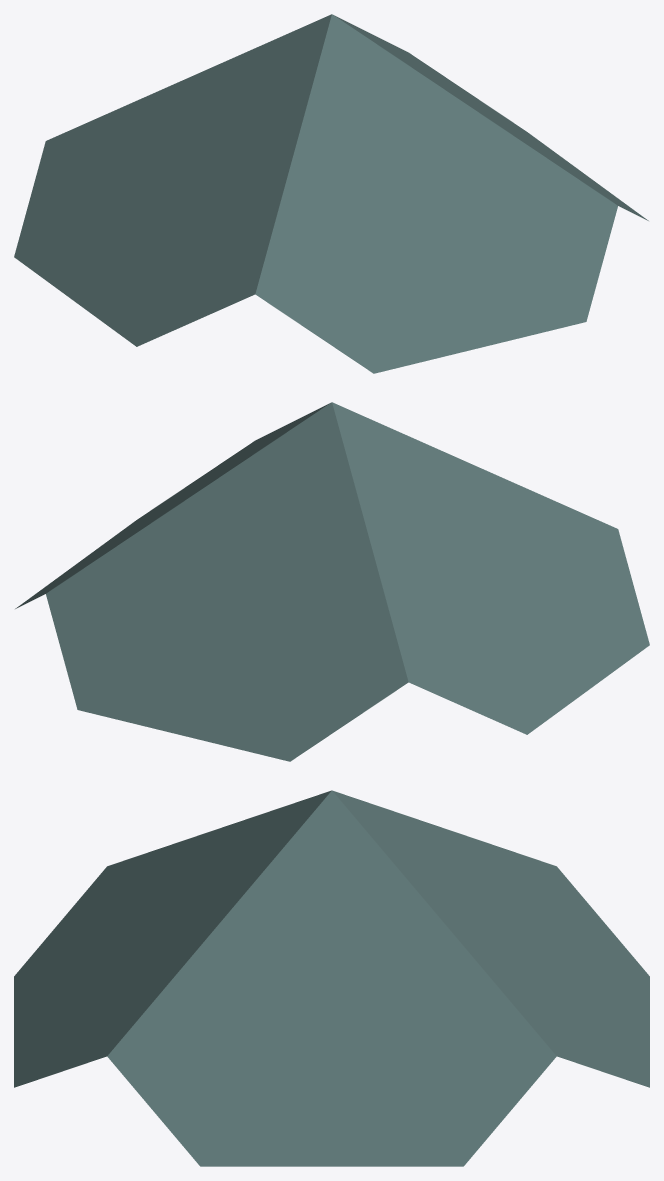
Rendered from 0459-Buildings-shell-pieces-roof-polygon-plan-emitPolygonRoof-12-triangles-9-24-x-3-8.glb.
3 renders of one model, top to bottom at view 1: azimuth 30°, elevation 25°; view 2: azimuth 150°, elevation 25°; view 3: azimuth 270°, elevation 25°, orthographic. The views are drawn at different scales.
Parts seen in each view (by area): view 1: emitPolygonRoof; view 2: emitPolygonRoof; view 3: emitPolygonRoof.
Boxes of the visible parts, left/top/right/bottom form: emitPolygonRoof: left=14, top=14, right=648, bottom=373; emitPolygonRoof: left=15, top=402, right=649, bottom=761; emitPolygonRoof: left=14, top=790, right=649, bottom=1166.
Size of the model in its own units: 9.24 by 3.88 by 9.24.
